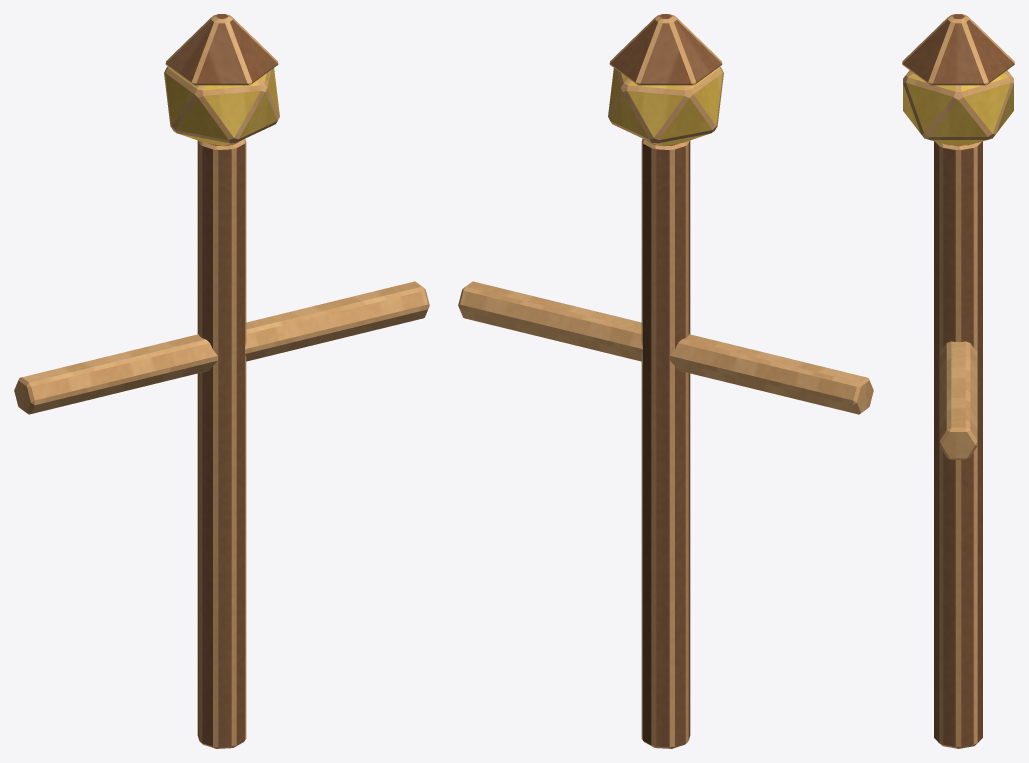
Rendered from sm_prop_scarecrow.glb.
3 renders of one model, left to right at view 1: azimuth 30°, elevation 25°; view 2: azimuth 150°, elevation 25°; view 3: azimuth 270°, elevation 25°, orthographic.
Visible parts, largest first — view 1: sm_prop_scarecrow; view 2: sm_prop_scarecrow; view 3: sm_prop_scarecrow.
Boxes of the visible parts, left/top/right/bottom form: sm_prop_scarecrow: left=14, top=14, right=429, bottom=748; sm_prop_scarecrow: left=458, top=14, right=873, bottom=748; sm_prop_scarecrow: left=902, top=14, right=1014, bottom=748.
Bounding box in the file's own units: 0.9 × 1.56 × 0.2201.
Materials: 1 (1 with a texture image).
